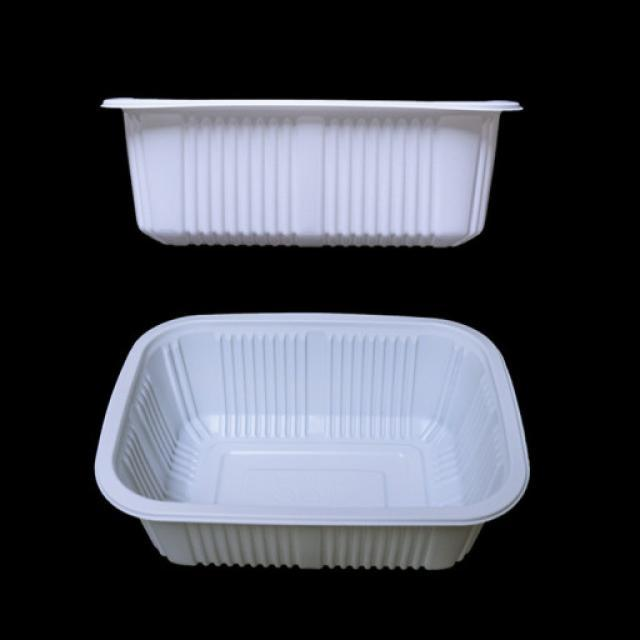container: (86, 301, 548, 580), (103, 90, 532, 256)
